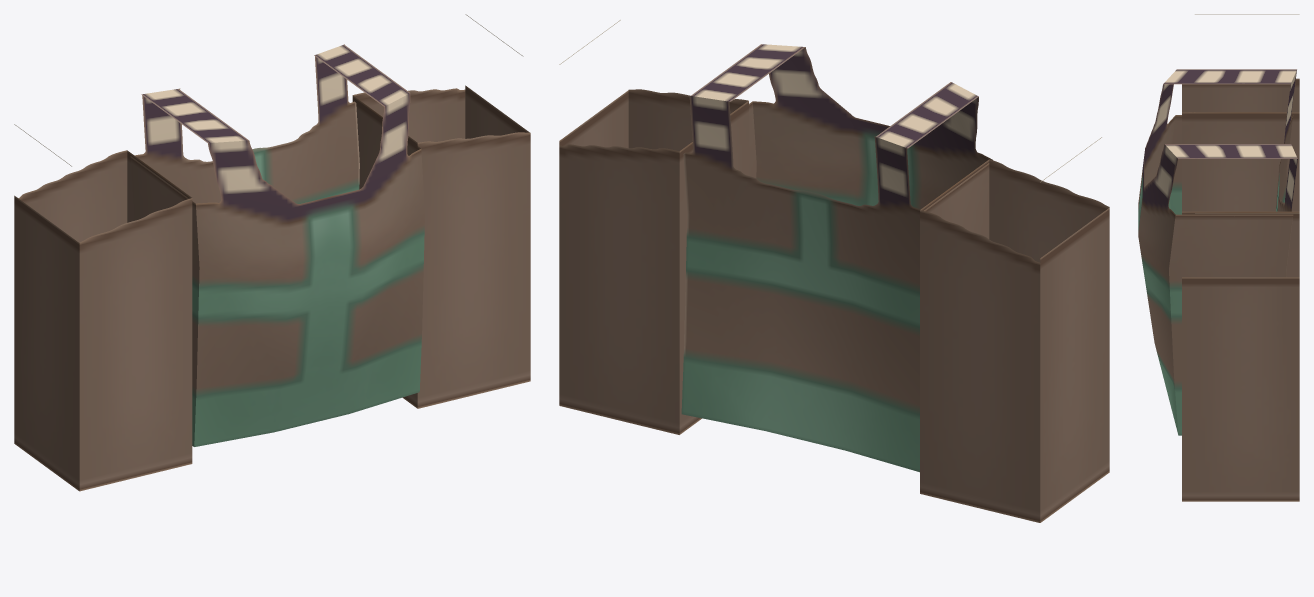
File: tops.obj
3 views of the same model, side by side, from view 1: azimuth 30°, elevation 25°; view 2: azimuth 150°, elevation 25°; view 3: azimuth 270°, elevation 25° (orthographic). The views are drawn at different scales.
Parts seen in each view (by area): view 1: trunk04; view 2: trunk04; view 3: trunk04.
Boxes of the visible parts, <box> form: trunk04: <box>14,14,530,491</box>; trunk04: <box>559,20,1109,522</box>; trunk04: <box>1138,14,1299,501</box>.
Size of the model in its own units: 90.18 by 78.95 by 30.91.
1 material, 1 textured.
